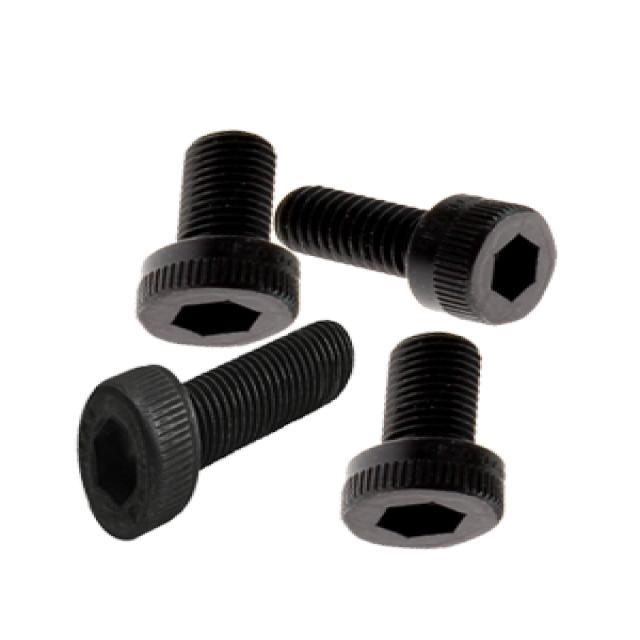allen: (76, 376, 196, 536), (451, 202, 557, 324), (346, 472, 500, 548), (137, 274, 296, 346)
